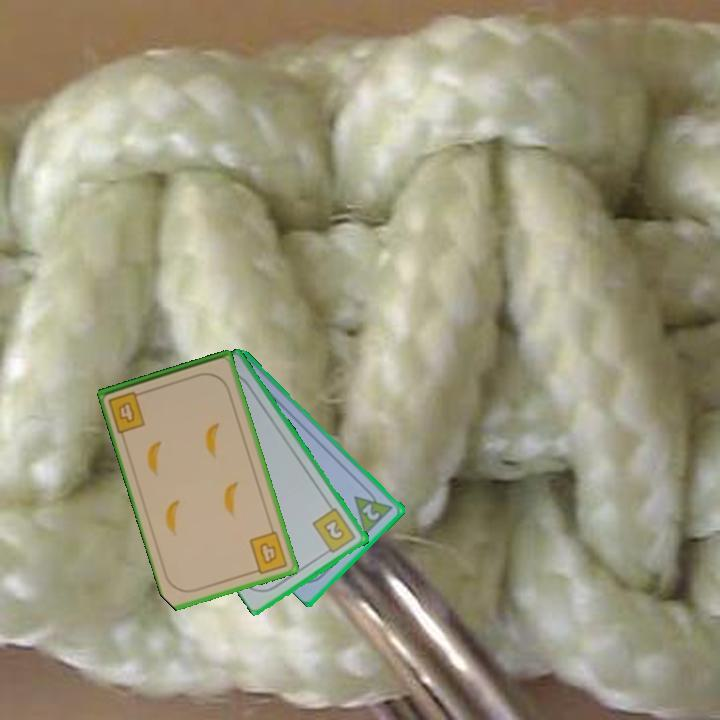2b: (309, 505, 359, 558)
2p: (350, 483, 396, 537)
4b: (246, 528, 291, 577), (105, 388, 149, 436)
